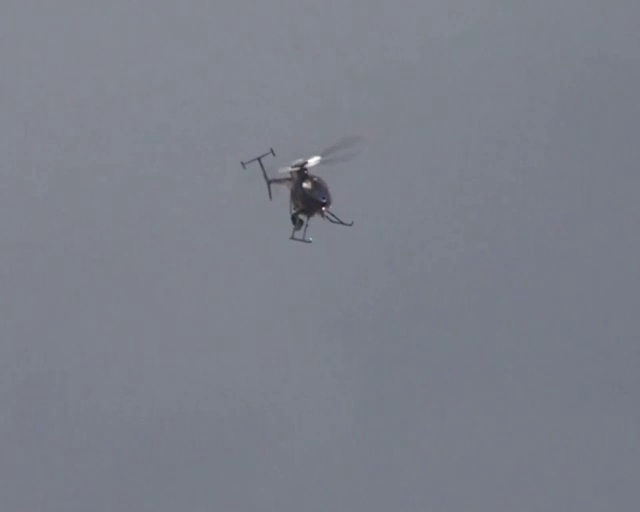HELICOPTER: (239, 135, 362, 243)
